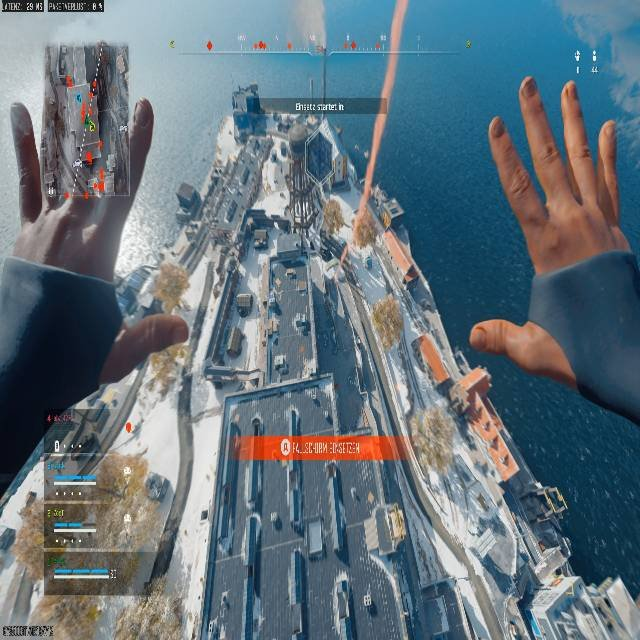player: (252, 416, 262, 435)
